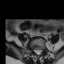CCS_normal: (37, 47, 39, 56)
LFS_normal: (41, 46, 43, 51)
LLS_normal: (39, 48, 41, 54)
RFS_normal: (32, 47, 35, 53)
RLS_normal: (35, 47, 37, 55)
